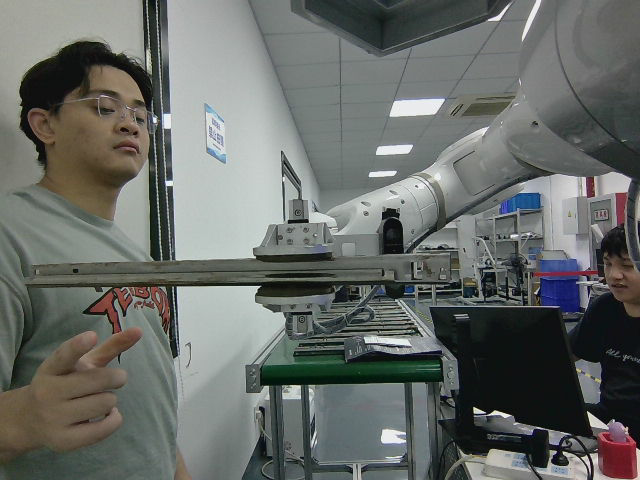down: (25, 255, 451, 291)
